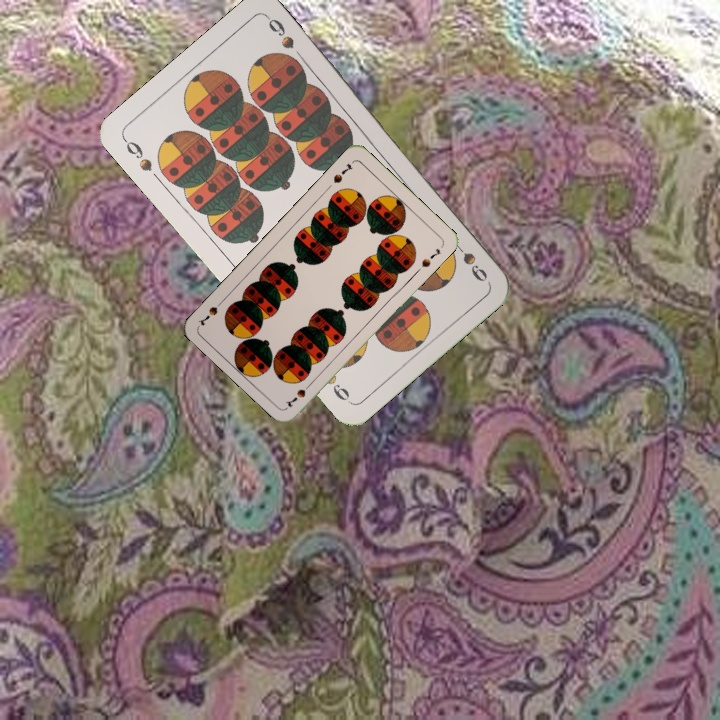S7: (281, 377, 315, 409), (329, 159, 355, 186)
S9: (447, 235, 490, 285), (119, 134, 155, 174)
